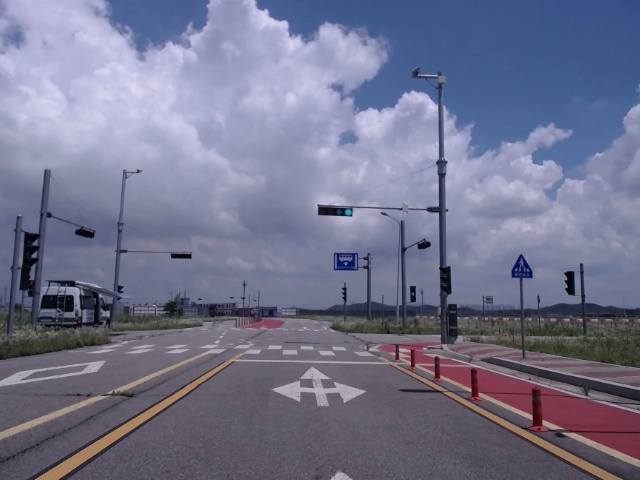all_green_4: (316, 206, 354, 218)
